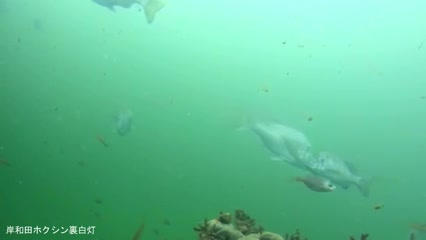smallfish: (238, 110, 317, 172), (301, 150, 376, 199), (108, 104, 147, 145), (291, 167, 341, 193)
